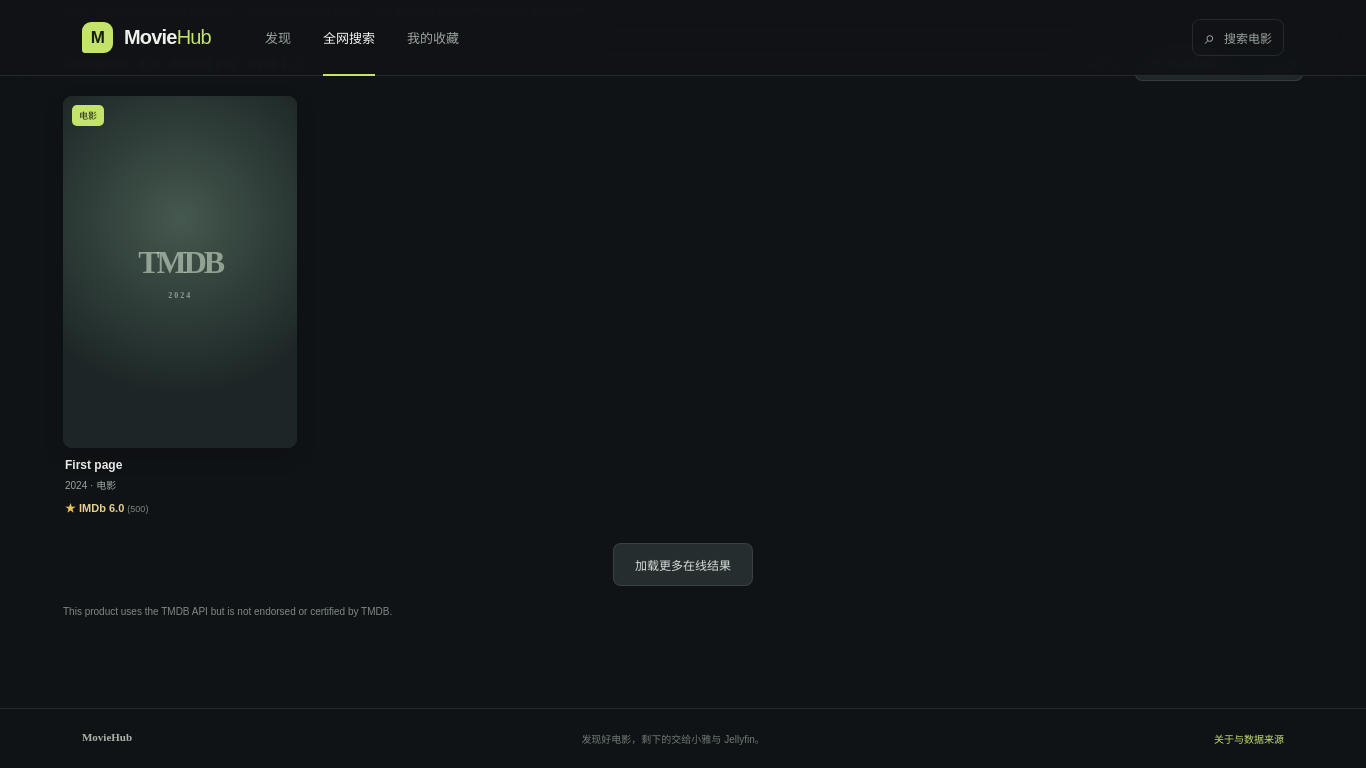
Test: MovieHub frontend workflows › keeps IMDb rating filters local and TMDB page order stable when loading more
The image size is (1366, 768).
(page scrolled)
Check: the link "First page" is shown, box [65,458,122,472]
Step 1. Click the button "加载更多在线结果" → point(683, 564), box [613,543,753,586]
(page scrolled)
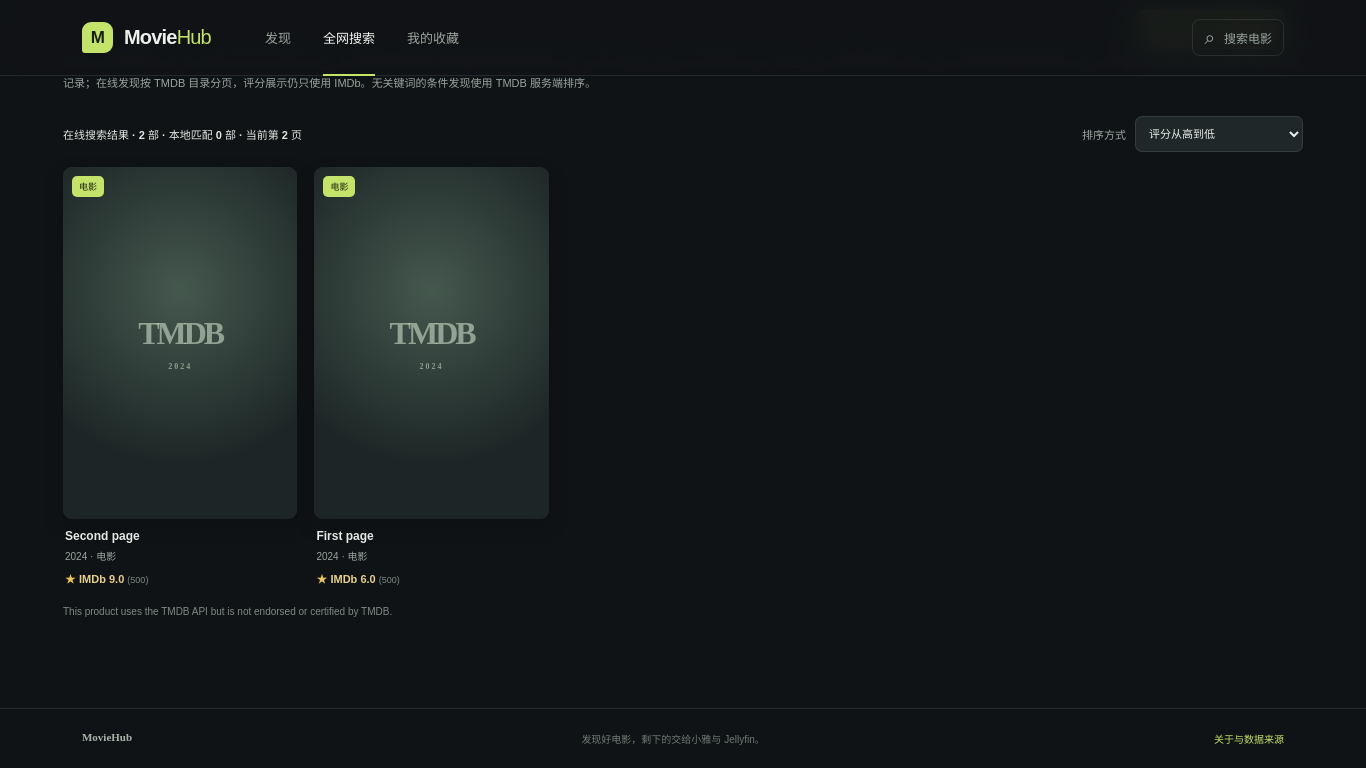
Check: the link "Second page" is shown, box [65,529,140,543]
